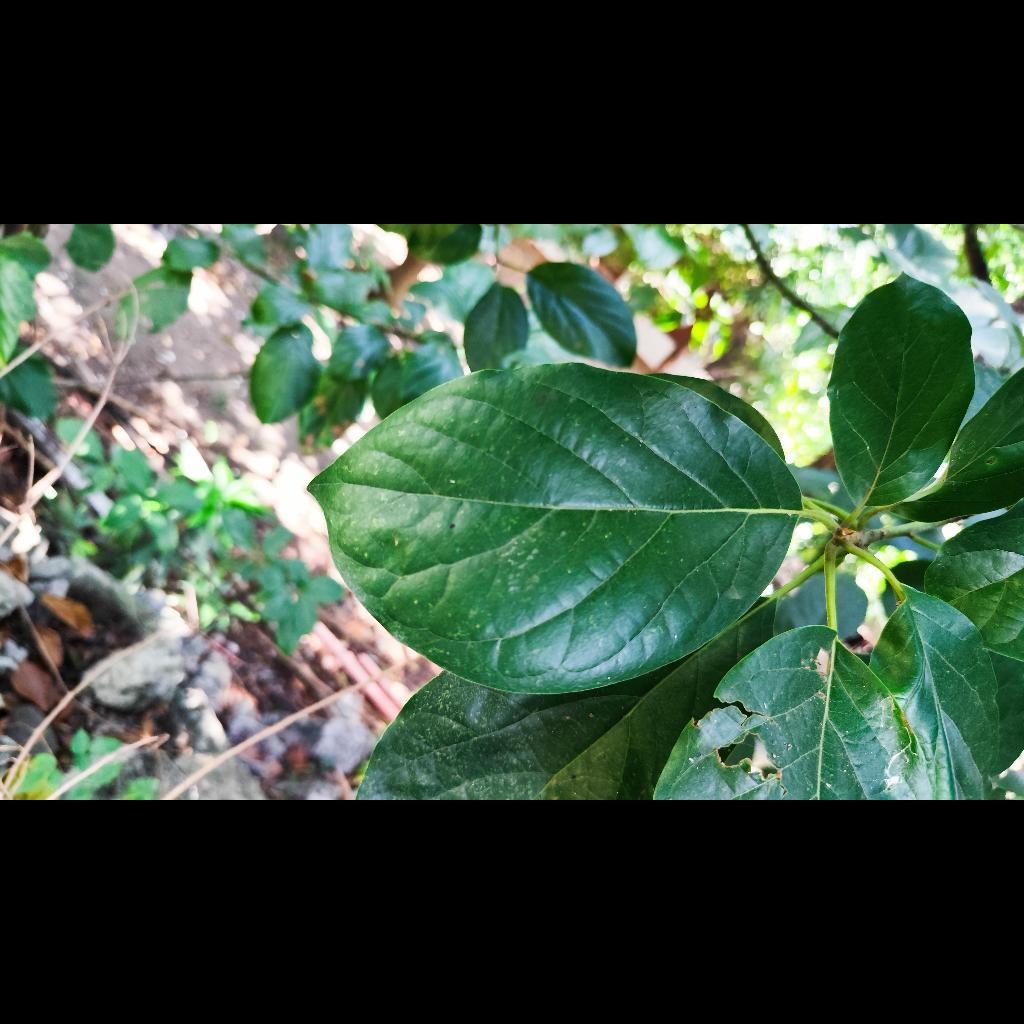hoja_sana: (308, 364, 801, 693)
